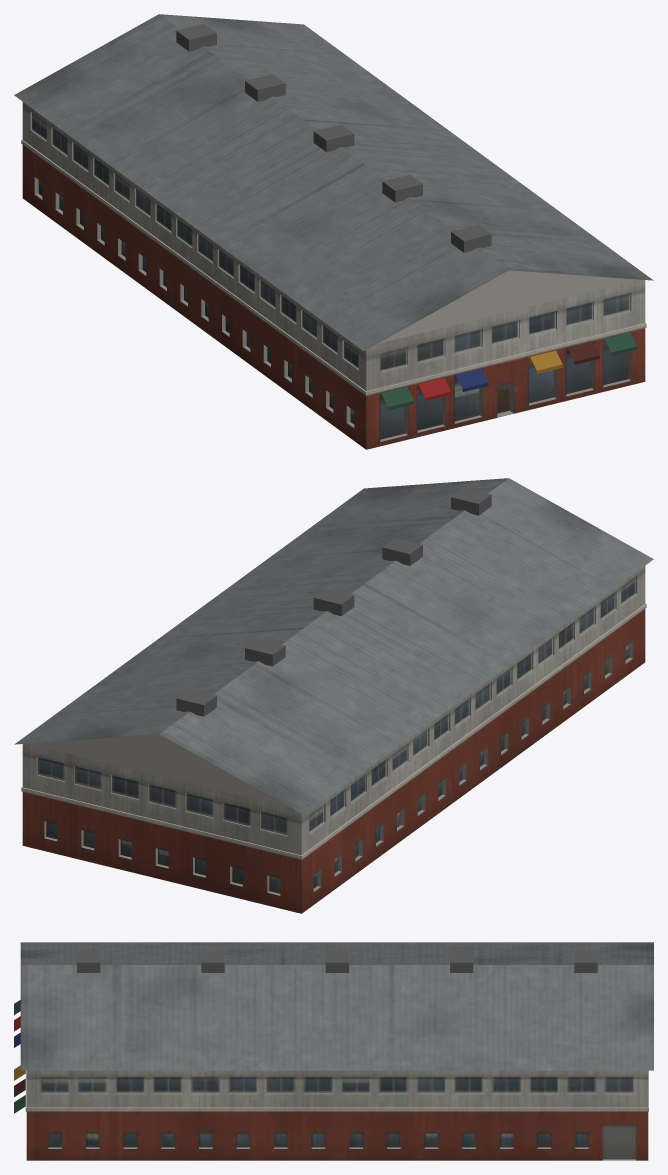
The model's file is seattle_warehouse_a.glb.
The picture shows the model from 3 angles, top to bottom: view 1: azimuth 30°, elevation 25°; view 2: azimuth 150°, elevation 25°; view 3: azimuth 270°, elevation 25°; orthographic projection. The views are drawn at different scales.
Parts seen in each view (by area): view 1: seattle_warehouse_a; view 2: seattle_warehouse_a; view 3: seattle_warehouse_a.
Boxes of the visible parts, x1=… form: seattle_warehouse_a: x1=14, y1=14, x2=653, y2=449; seattle_warehouse_a: x1=14, y1=478, x2=653, y2=913; seattle_warehouse_a: x1=14, y1=942, x2=653, y2=1160.
Bounding box in the file's own units: 31.2 × 16.2 × 65.9.
1 material, 1 textured.
